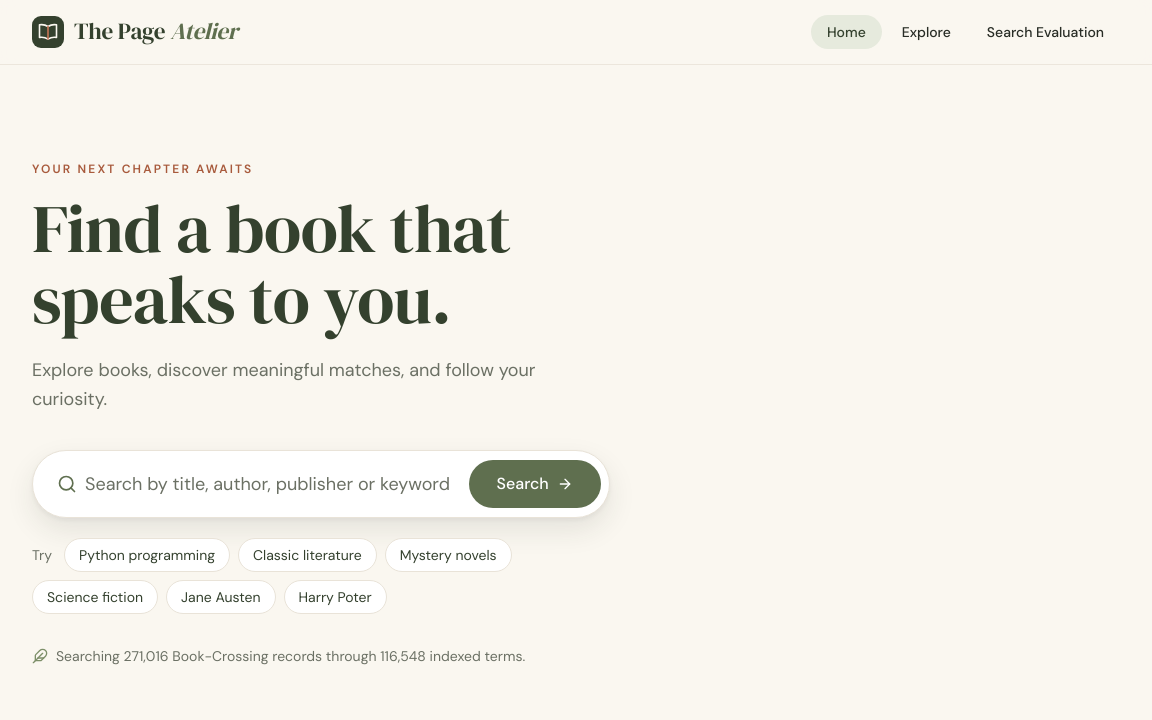
Test case: The Page Atelier user flows › validates an empty query instead of searching
Click the button "Search" at (535, 484), box [469,460,601,508]
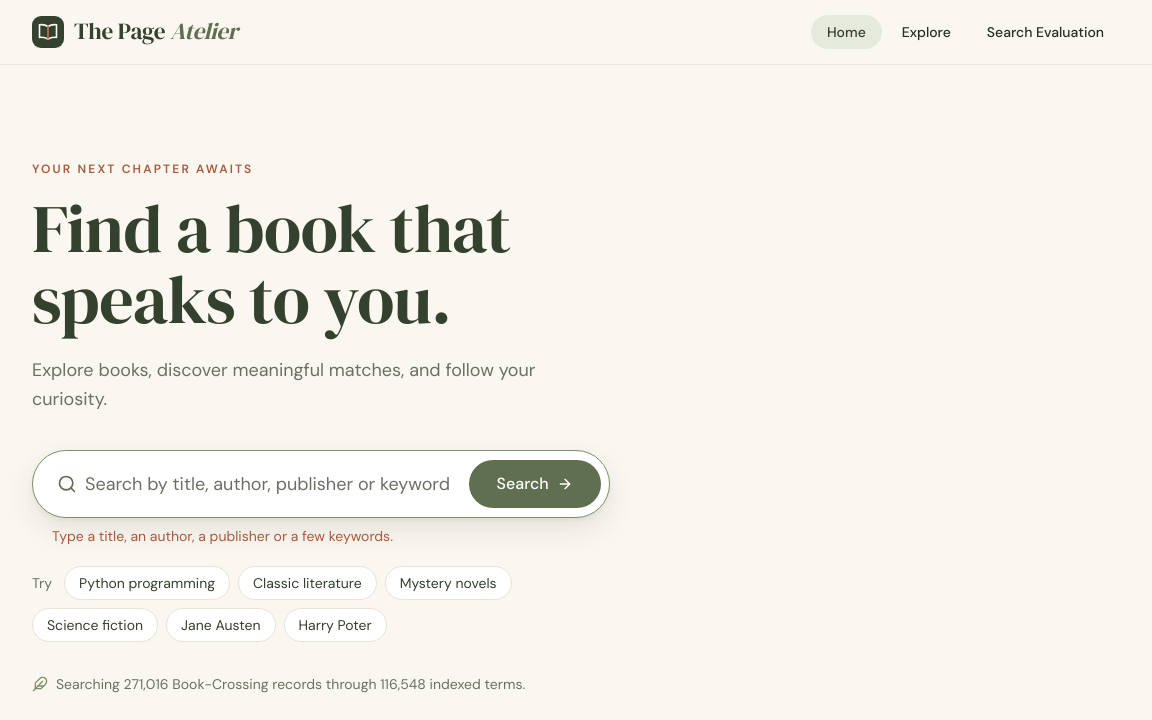
Check: the message shows "Type a title", box [52,527,393,545]
